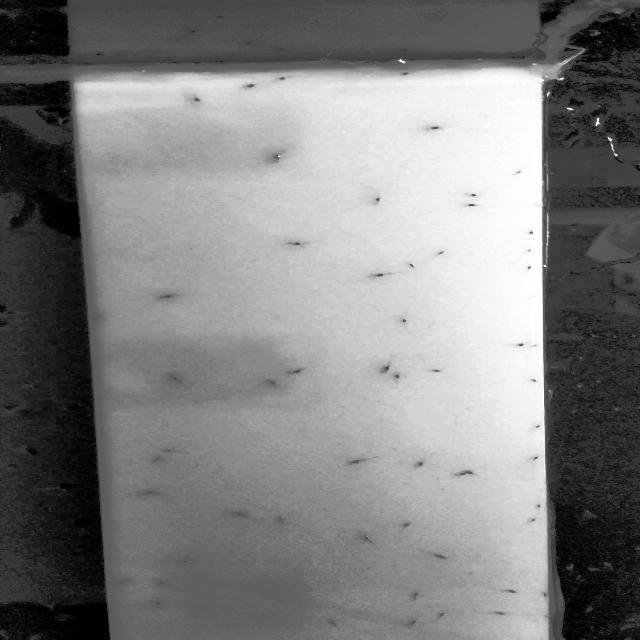shrimp: (287, 236, 326, 248), (185, 93, 216, 108), (286, 364, 316, 377), (155, 289, 186, 301), (258, 379, 284, 392), (94, 309, 120, 321), (397, 520, 425, 531), (226, 510, 256, 520), (168, 372, 188, 387), (427, 249, 451, 261), (348, 456, 370, 469), (504, 166, 526, 178), (393, 371, 410, 386), (361, 534, 386, 544), (454, 468, 481, 477), (270, 77, 295, 86), (402, 619, 422, 630), (500, 588, 522, 598), (426, 367, 450, 376), (390, 70, 425, 76), (378, 360, 394, 373), (529, 452, 546, 464), (431, 552, 449, 563), (460, 192, 482, 201), (422, 124, 449, 131), (153, 597, 168, 609), (395, 317, 415, 326), (372, 190, 382, 208), (139, 491, 164, 498), (175, 559, 196, 567), (410, 462, 431, 470), (463, 201, 484, 209), (522, 244, 538, 254), (404, 262, 424, 270), (491, 609, 508, 618), (520, 228, 539, 236), (517, 340, 532, 350), (411, 588, 423, 600), (530, 378, 548, 386), (324, 618, 338, 628), (273, 515, 286, 525), (431, 612, 455, 617), (274, 152, 290, 159), (539, 589, 549, 600), (530, 421, 541, 431), (114, 578, 132, 584), (369, 272, 394, 276), (534, 496, 542, 508), (522, 262, 534, 270), (162, 450, 185, 454), (248, 81, 258, 90), (156, 580, 170, 586), (524, 518, 538, 524), (146, 458, 164, 462), (190, 607, 210, 610)
